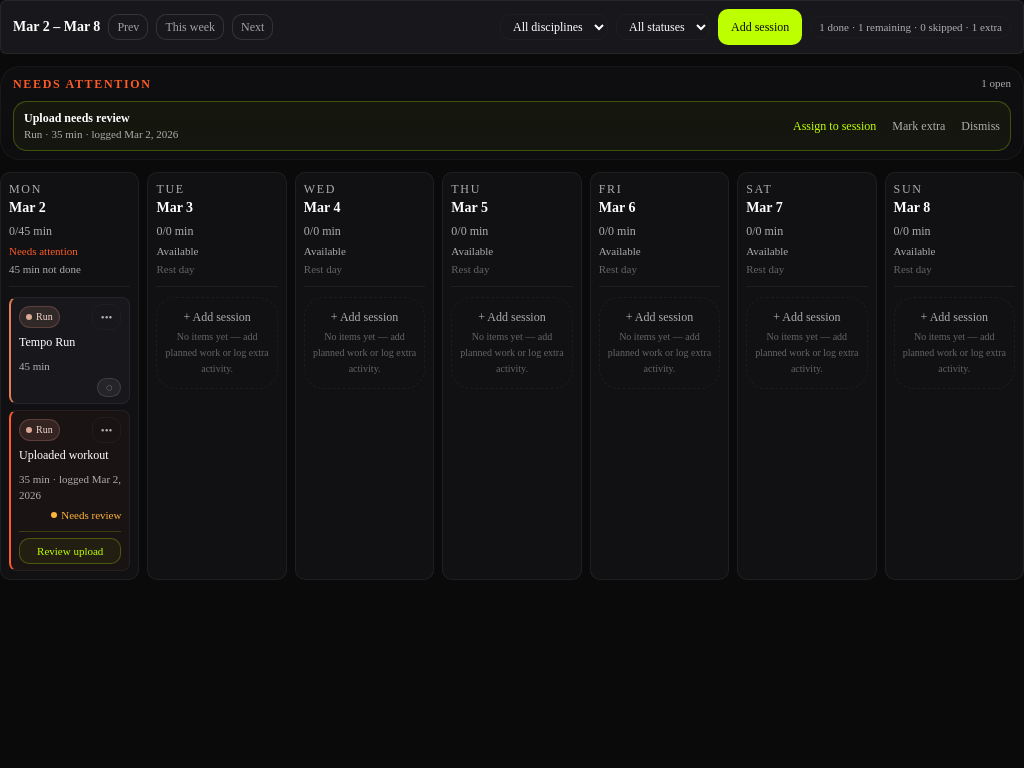
WeekCalendar › shows needs-attention queue for uploads needing review and filters by extra state
This screenshot has width=1024, height=768.
Expected: the text "Needs attention" in the row of "open" is shown, [13,77,152,91]
Expected: the text "Upload needs review" is shown, [24,111,130,125]
Select "Extra" in the 2nd dropdown named "Status filter". click: (663, 27)
box: [616,14,710,40]
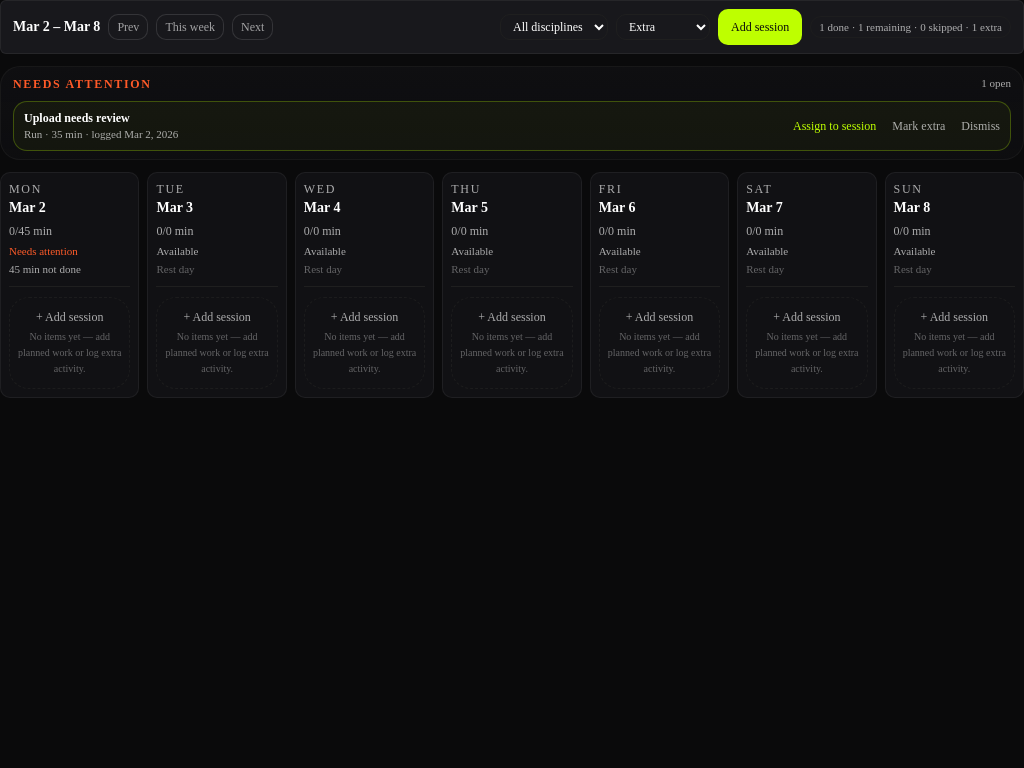
Now the text "Tempo" is gone
